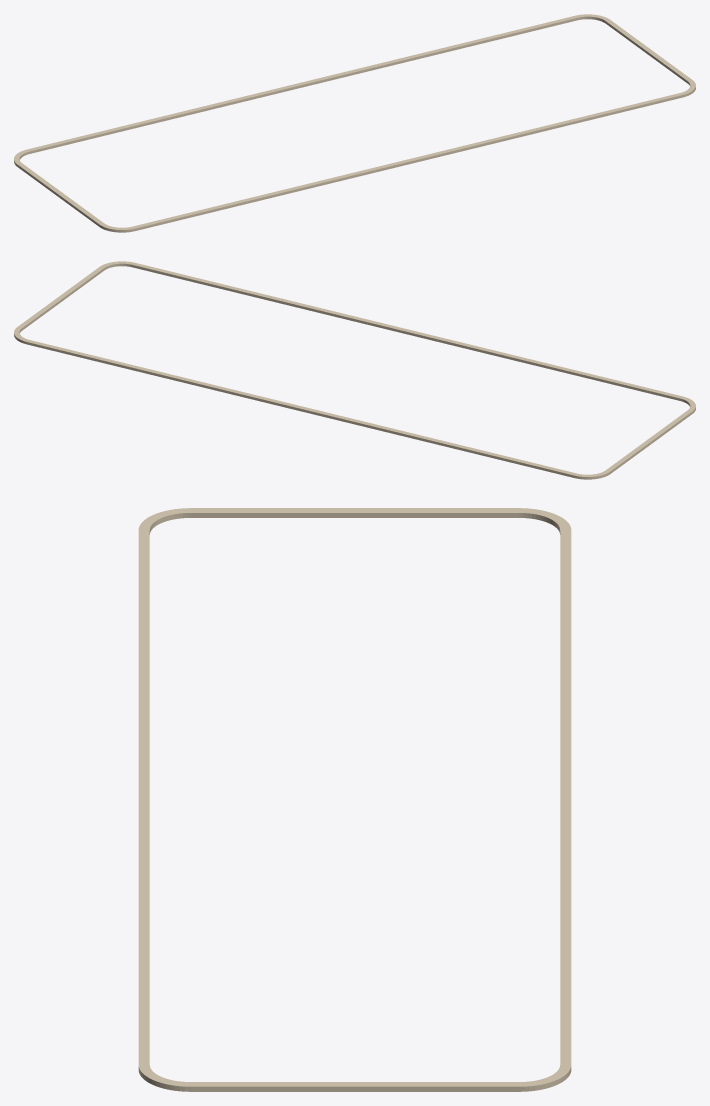
The model's file is valve-cover-gasket.glb.
3 renders of one model, top to bottom at view 1: azimuth 30°, elevation 25°; view 2: azimuth 150°, elevation 25°; view 3: azimuth 270°, elevation 25°, orthographic. The views are drawn at different scales.
Parts seen in each view (by area): view 1: world; view 2: world; view 3: world.
Part boxes in pixels (<box>): world: <box>14,14,695,232</box>; world: <box>14,261,695,479</box>; world: <box>138,508,571,1091</box>.
Size of the model in its own units: 0.734 by 0.003 by 0.232.
